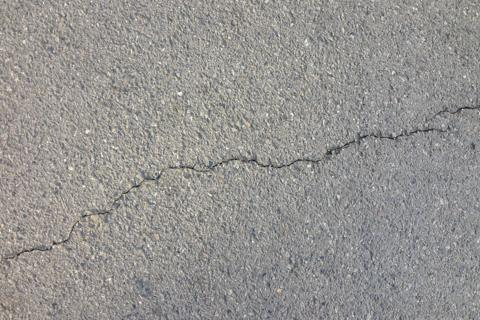crack: (1, 87, 480, 269)
